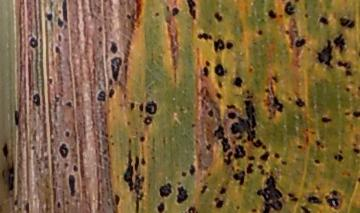tarspot: (230, 100, 267, 151), (123, 149, 146, 213), (256, 175, 284, 213), (262, 84, 286, 121), (315, 38, 336, 69), (212, 124, 231, 154), (1, 160, 16, 194), (324, 190, 343, 209), (110, 56, 123, 82), (333, 32, 346, 54), (67, 173, 78, 198), (185, 1, 199, 20), (338, 16, 356, 30), (157, 182, 172, 198), (196, 31, 213, 45), (176, 185, 188, 204), (232, 170, 246, 186), (222, 150, 235, 167), (58, 142, 70, 160), (307, 194, 322, 208), (144, 100, 158, 115), (201, 59, 212, 78), (213, 62, 226, 78), (212, 38, 225, 54), (283, 1, 296, 17), (233, 144, 246, 159), (231, 76, 245, 89), (336, 59, 353, 69), (2, 141, 10, 162), (31, 92, 42, 107), (62, 1, 69, 24), (317, 15, 330, 27), (294, 97, 307, 109), (95, 90, 107, 103), (213, 196, 225, 209), (293, 37, 307, 48), (13, 109, 21, 127), (213, 11, 225, 23), (287, 191, 299, 203), (155, 201, 167, 213), (225, 111, 238, 122), (224, 40, 235, 52), (267, 8, 277, 21), (244, 162, 254, 175), (109, 41, 118, 55), (259, 151, 270, 162), (28, 37, 38, 49), (55, 16, 65, 28), (314, 138, 324, 150), (107, 87, 116, 100), (185, 205, 199, 213), (113, 193, 121, 207), (218, 185, 228, 196), (143, 115, 152, 127), (257, 163, 266, 175), (189, 162, 196, 177), (320, 116, 333, 124), (171, 7, 181, 17), (299, 204, 310, 213), (225, 102, 236, 111), (352, 109, 360, 121), (333, 153, 343, 162), (138, 134, 148, 143), (203, 143, 213, 152), (344, 69, 353, 78), (64, 100, 73, 109), (206, 108, 215, 117), (291, 28, 300, 37), (45, 12, 53, 22), (312, 158, 322, 166), (138, 102, 145, 113), (24, 202, 31, 213), (96, 25, 104, 34), (270, 75, 279, 83), (214, 91, 222, 100), (352, 146, 360, 155), (200, 184, 207, 194), (217, 80, 224, 90), (246, 154, 256, 161), (106, 79, 114, 87), (273, 151, 280, 160), (244, 88, 251, 97), (129, 101, 135, 111), (54, 45, 60, 55), (57, 32, 63, 42), (140, 156, 146, 166), (245, 95, 255, 101), (72, 165, 79, 173), (153, 11, 160, 19), (12, 198, 20, 205), (280, 159, 288, 166), (296, 143, 303, 151), (63, 161, 70, 168), (256, 29, 263, 36), (55, 201, 62, 208), (247, 66, 254, 73), (64, 130, 70, 138), (165, 4, 171, 12), (125, 13, 131, 21), (189, 123, 197, 129), (344, 86, 351, 92), (97, 39, 103, 46), (180, 171, 186, 178), (250, 207, 257, 213), (127, 137, 133, 144), (304, 12, 309, 20), (284, 29, 290, 35), (235, 205, 240, 211), (357, 176, 360, 182), (294, 1, 300, 4)
